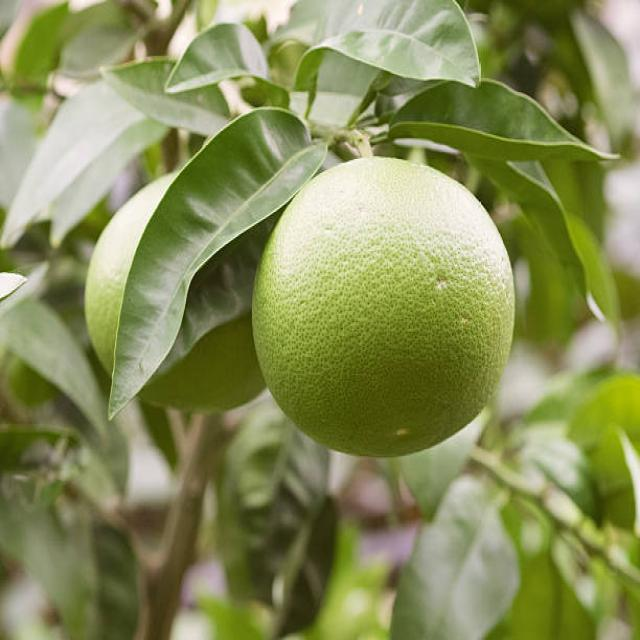Unripe: (250, 152, 516, 458)
